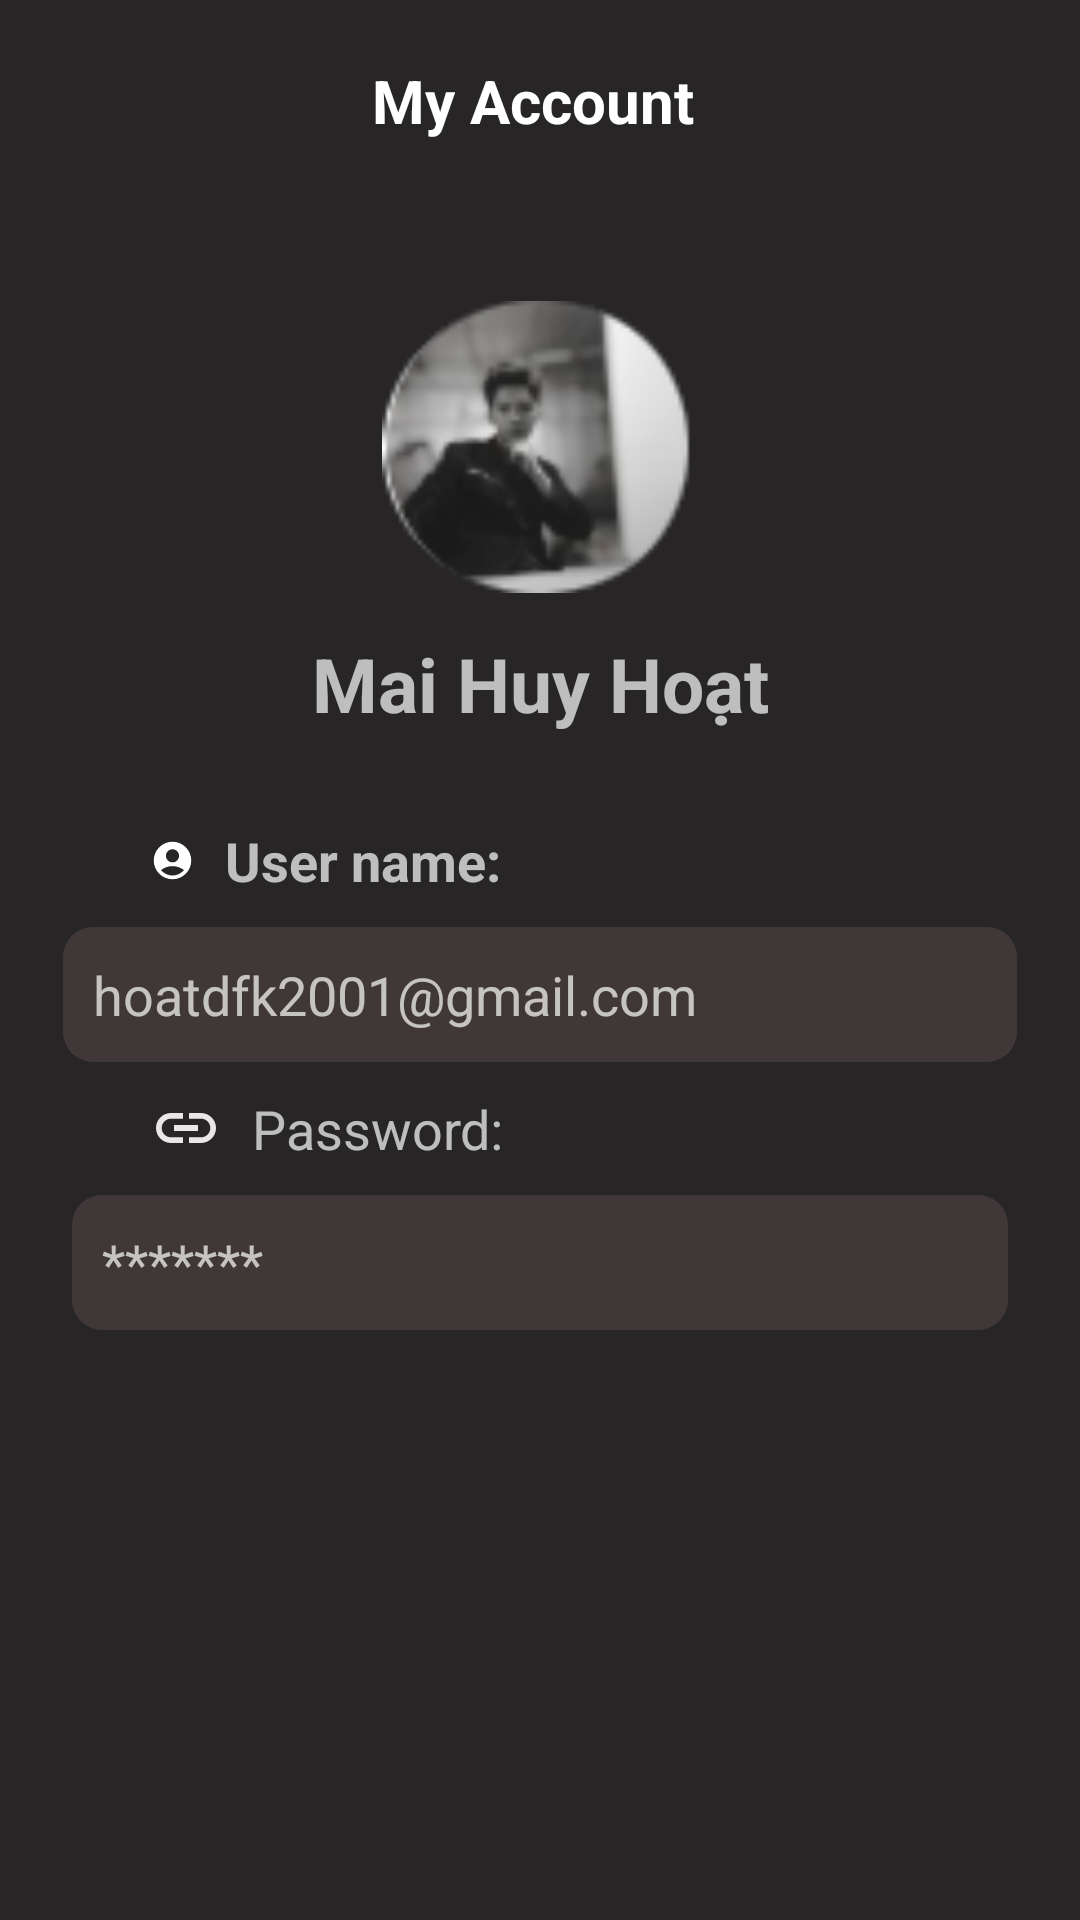

Icon bounding boxes for this 1080*1920 phone screenshot, format (x1, y1, x2, y2):
myimage: (382, 301, 690, 593)
